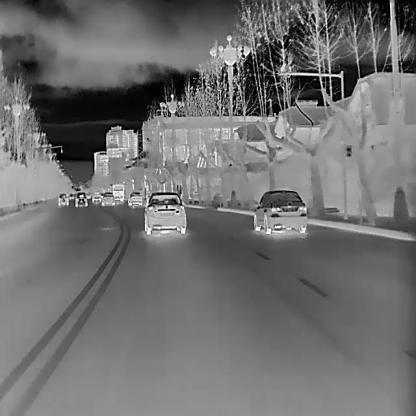bus: (111, 184, 124, 202)
car: (253, 187, 307, 234), (144, 191, 186, 235), (127, 192, 142, 206), (101, 192, 115, 206), (74, 192, 87, 206), (57, 192, 69, 206), (92, 191, 100, 203)
